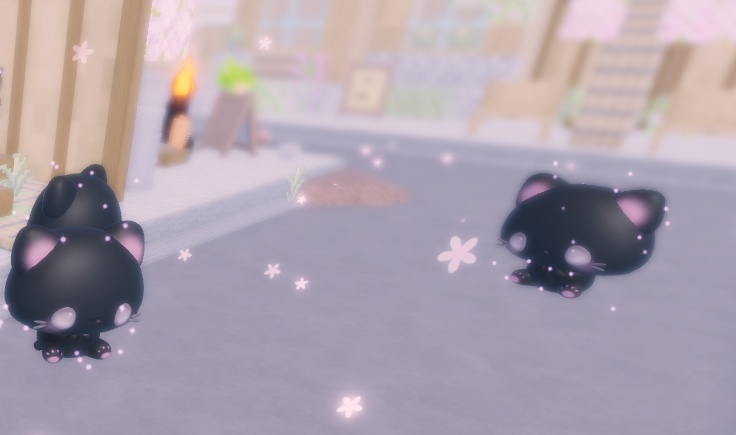urso_preto: (29, 163, 191, 359), (497, 148, 681, 313)
